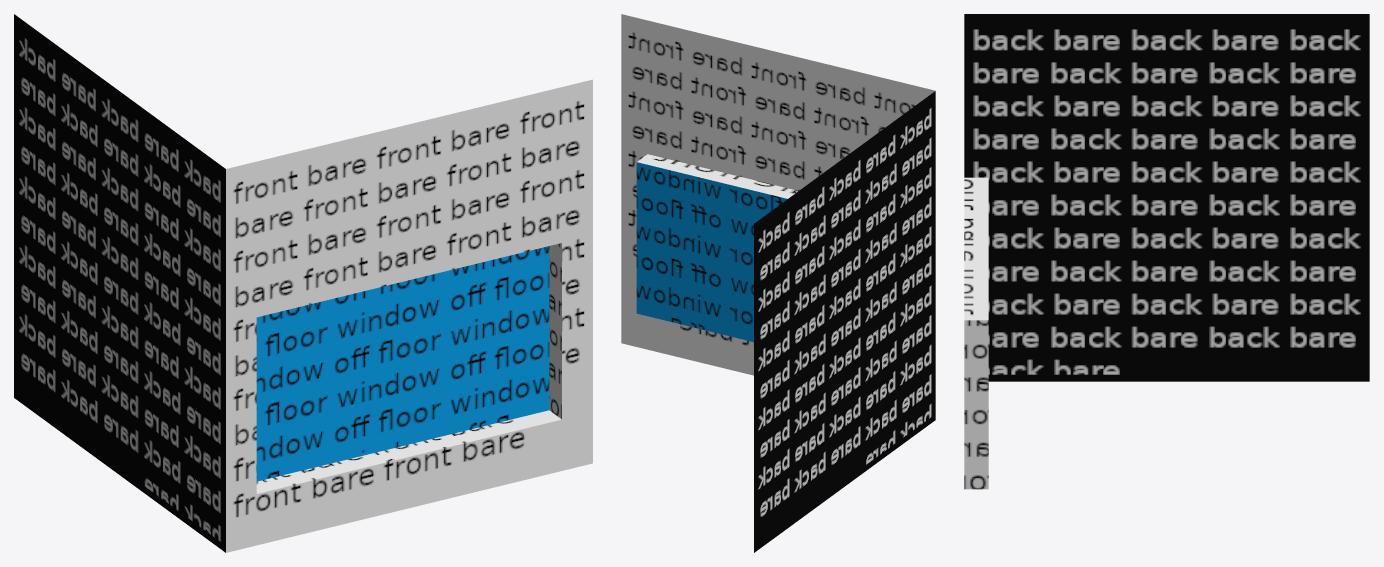
Rendered from left_edge_window_off_floor.gltf.
3 renders of one model, left to right at view 1: azimuth 30°, elevation 25°; view 2: azimuth 150°, elevation 25°; view 3: azimuth 270°, elevation 25°, orthographic. The views are drawn at different scales.
Parts seen in each view (by area): view 1: left_edge_window_off_floor; view 2: left_edge_window_off_floor; view 3: left_edge_window_off_floor.
Boxes of the visible parts, box(x1,y1,x2,y2) form: left_edge_window_off_floor: box(14, 14, 592, 552); left_edge_window_off_floor: box(621, 14, 935, 552); left_edge_window_off_floor: box(964, 14, 1369, 489).
Bounding box in the file's own units: 5 × 5 × 5.
3 materials, 3 textured.
